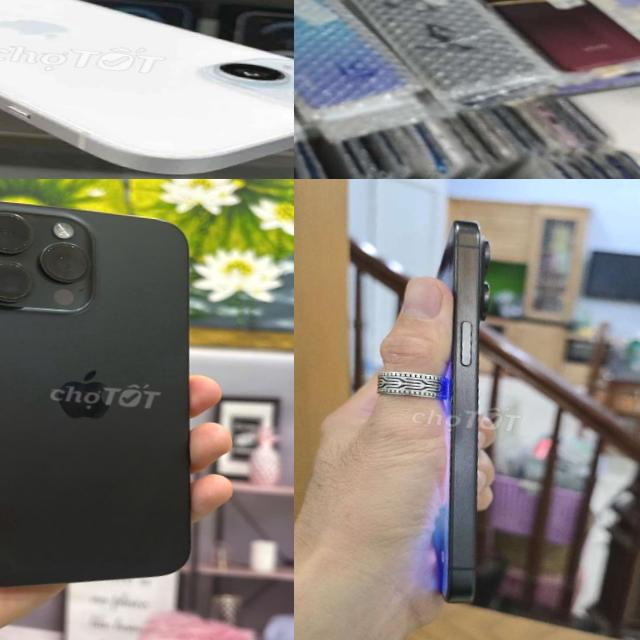scratch: (0, 207, 98, 309), (448, 253, 482, 320)
